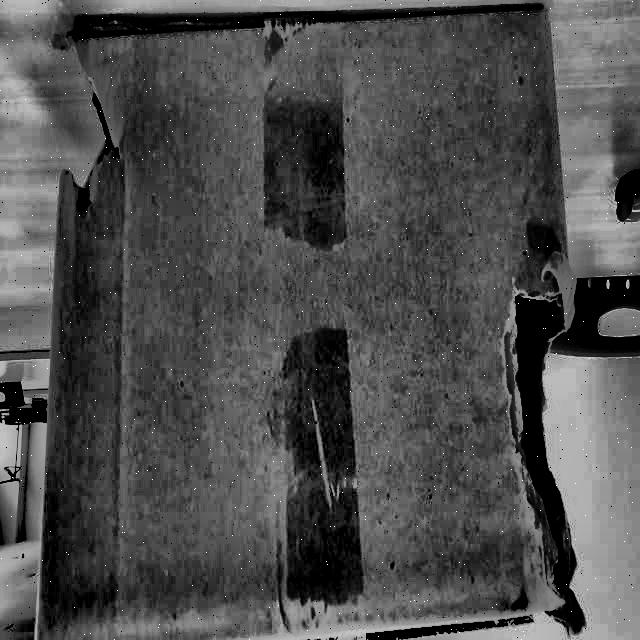box: (28, 3, 589, 640)
hole: (490, 268, 592, 629), (60, 45, 126, 208)
